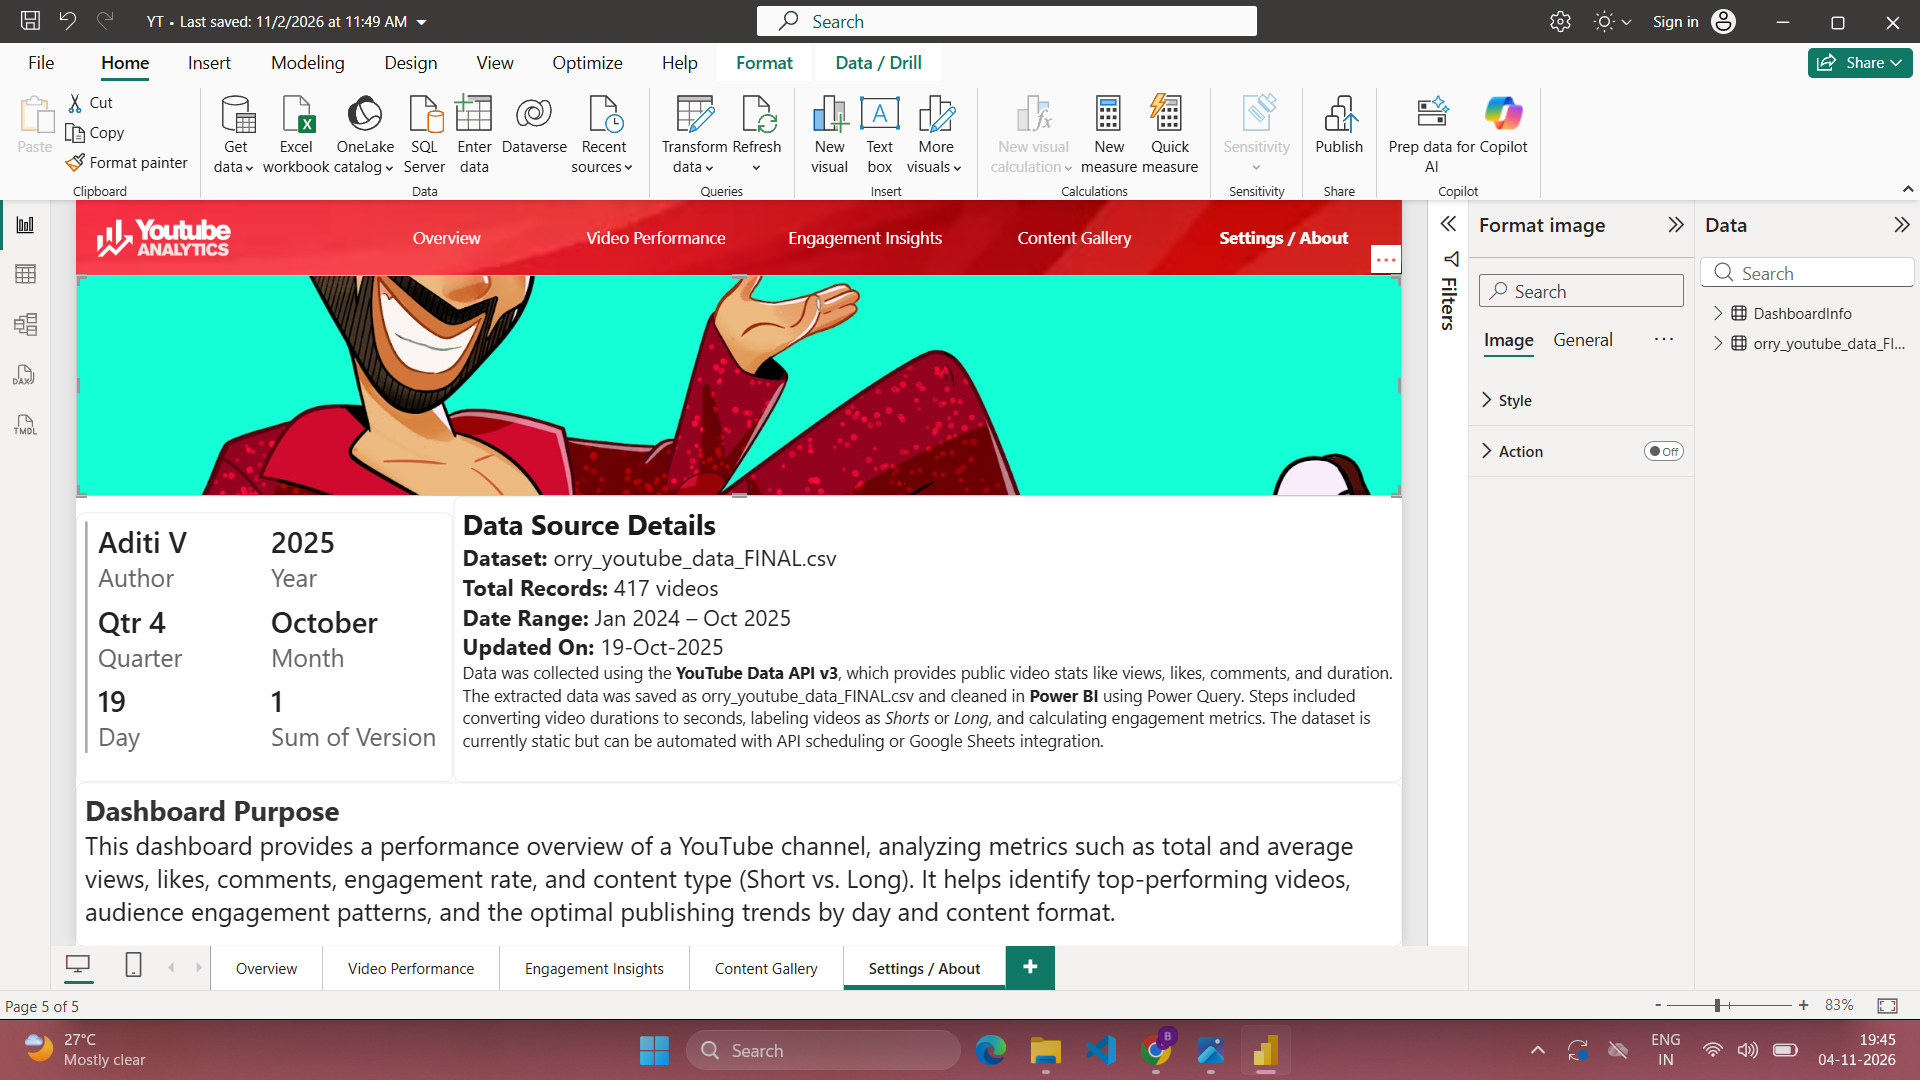

This screenshot's page, from the dashboard's own definition file:
{"tool":"powerbi","page":{"name":"Settings / About","canvas":[1280,720],"ordinal":4},"visuals":[{"type":"multiRowCard","fields":{"Values":["DashboardInfo.Author","DashboardInfo.Last Refresh.Variation.Date Hierarchy.Year","DashboardInfo.Last Refresh.Variation.Date Hierarchy.Quarter","DashboardInfo.Last Refresh.Variation.Date Hierarchy.Month","DashboardInfo.Last Refresh.Variation.Date Hierarchy.Day","Sum(DashboardInfo.Version)"]},"box":[0,302,364,260],"z":0},{"type":"textbox","box":[0,562,1280,158],"z":1000},{"type":"textbox","box":[364,286,916,276],"z":2000},{"type":"image","box":[0,0,1280,72.9],"z":2001},{"type":"pageNavigator","box":[261.9,12.5,1001.2,47.5],"z":2002},{"type":"image","box":[16.2,0,151.2,72.5],"z":2003},{"type":"image","box":[0,72.9,1280,228.6],"z":2004}]}

Visuals, with their boxes on the page's 1280x720 design canvas (x1, y1, x2, y2). These are canvas units, not pixel positions in the 1920x1080 screenshot, which may show the page scaled, cropped or inside an application window:
multiRowCard - DashboardInfo.Author x DashboardInfo.Last Refresh.Variation.Date Hierarchy.Year: left=0, top=302, right=364, bottom=562
textbox: left=0, top=562, right=1280, bottom=720
textbox: left=364, top=286, right=1280, bottom=562
image: left=0, top=0, right=1280, bottom=73
pageNavigator: left=262, top=12, right=1263, bottom=60
image: left=16, top=0, right=167, bottom=72
image: left=0, top=73, right=1280, bottom=302
